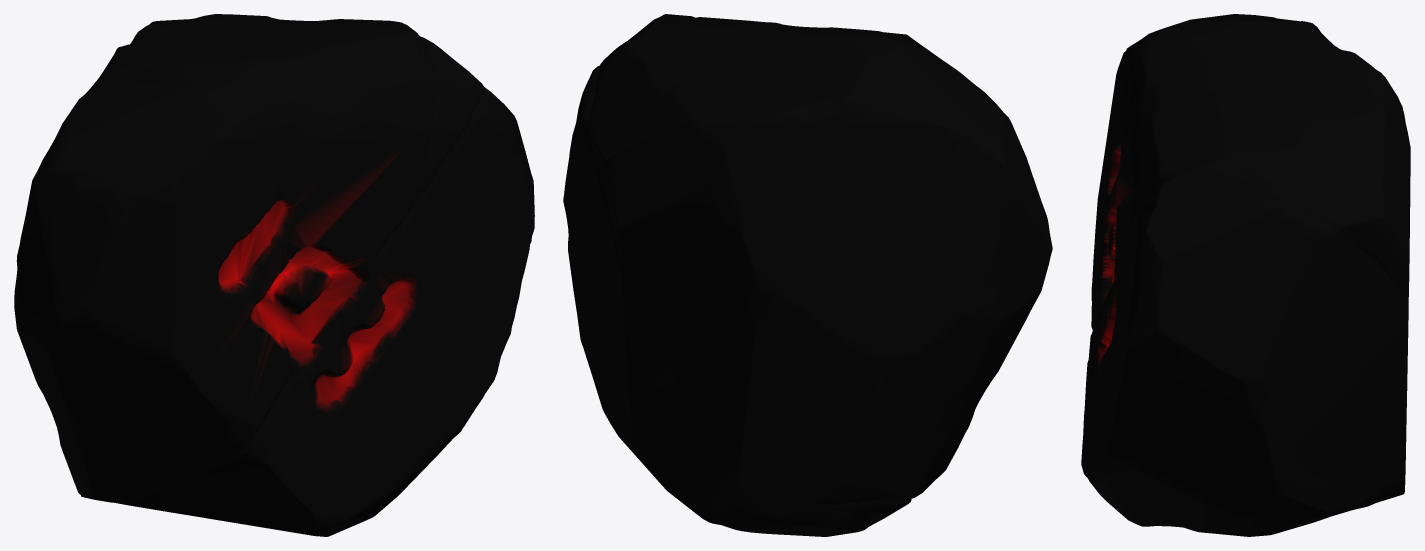
Rendered from Rock_03.fbx.
3 renders of one model, left to right at view 1: azimuth 30°, elevation 25°; view 2: azimuth 150°, elevation 25°; view 3: azimuth 270°, elevation 25°, orthographic. The views are drawn at different scales.
Visible parts, largest first — view 1: rock3; view 2: rock3; view 3: rock3.
Boxes of the visible parts, x1,y1,x2,y2 form: rock3: (14, 14, 534, 536); rock3: (563, 14, 1052, 536); rock3: (1081, 14, 1410, 536).
Size of the model in its own units: 3.42 by 3.28 by 2.14.
